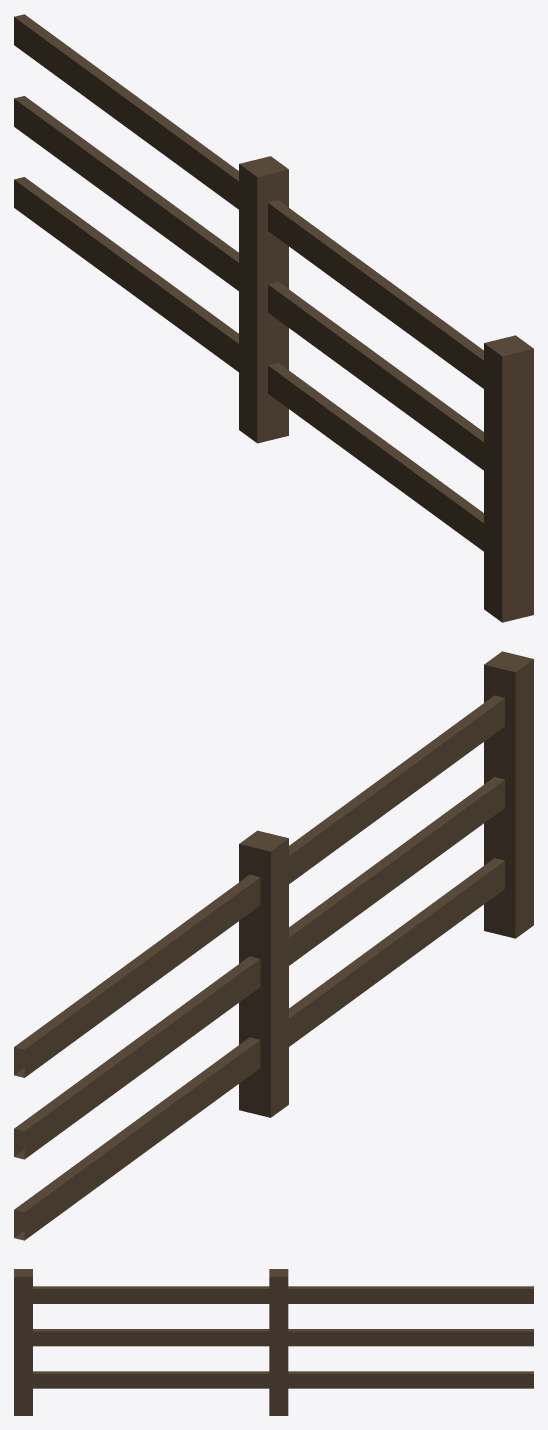
Rendered from SM_fence_102a.gltf.
3 renders of one model, top to bottom at view 1: azimuth 30°, elevation 25°; view 2: azimuth 150°, elevation 25°; view 3: azimuth 270°, elevation 25°, orthographic. The views are drawn at different scales.
Visible parts, largest first — view 1: SM_fence_102a; view 2: SM_fence_102a; view 3: SM_fence_102a.
Part boxes in pixels (box(x1,y1,x2,y2)): SM_fence_102a: box(14, 14, 533, 622); SM_fence_102a: box(14, 651, 533, 1240); SM_fence_102a: box(14, 1269, 533, 1415).
Bounding box in the file's own units: 0.1495 × 1.2 × 4.07.
Materials: 1 (1 with a texture image).
